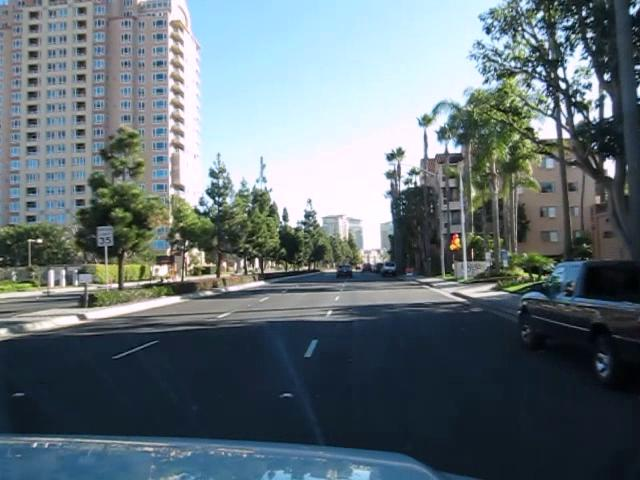speedLimit35: (96, 224, 114, 246)
